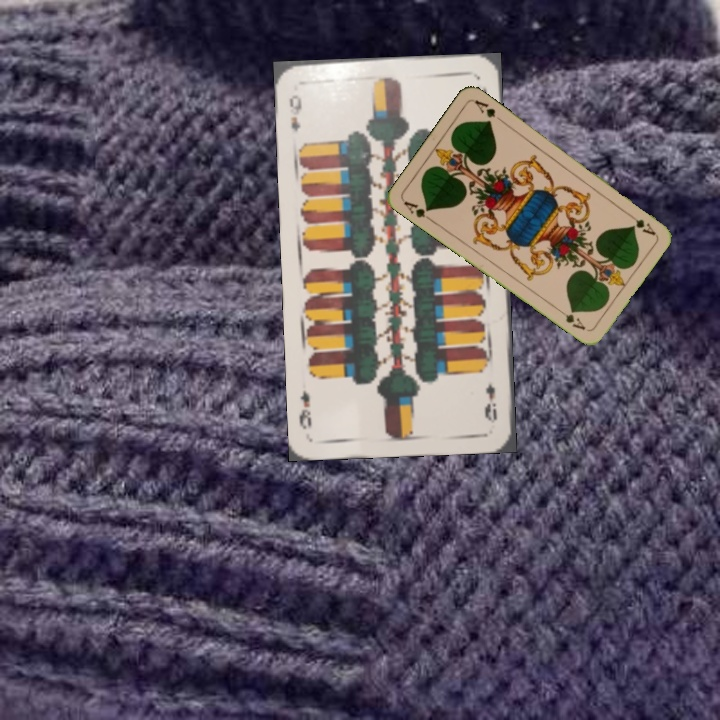E9: (480, 380, 500, 426), (285, 90, 305, 133)
GA: (623, 208, 658, 238), (400, 197, 435, 225)
